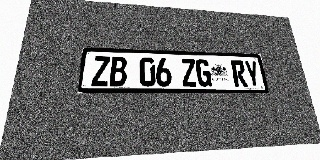0: (140, 57, 156, 86)
6: (155, 58, 172, 87)
B: (109, 56, 127, 86)
G: (195, 59, 212, 87)
R: (231, 60, 248, 87)
Y: (244, 60, 261, 87)
Z: (91, 56, 110, 86), (181, 59, 197, 87)
